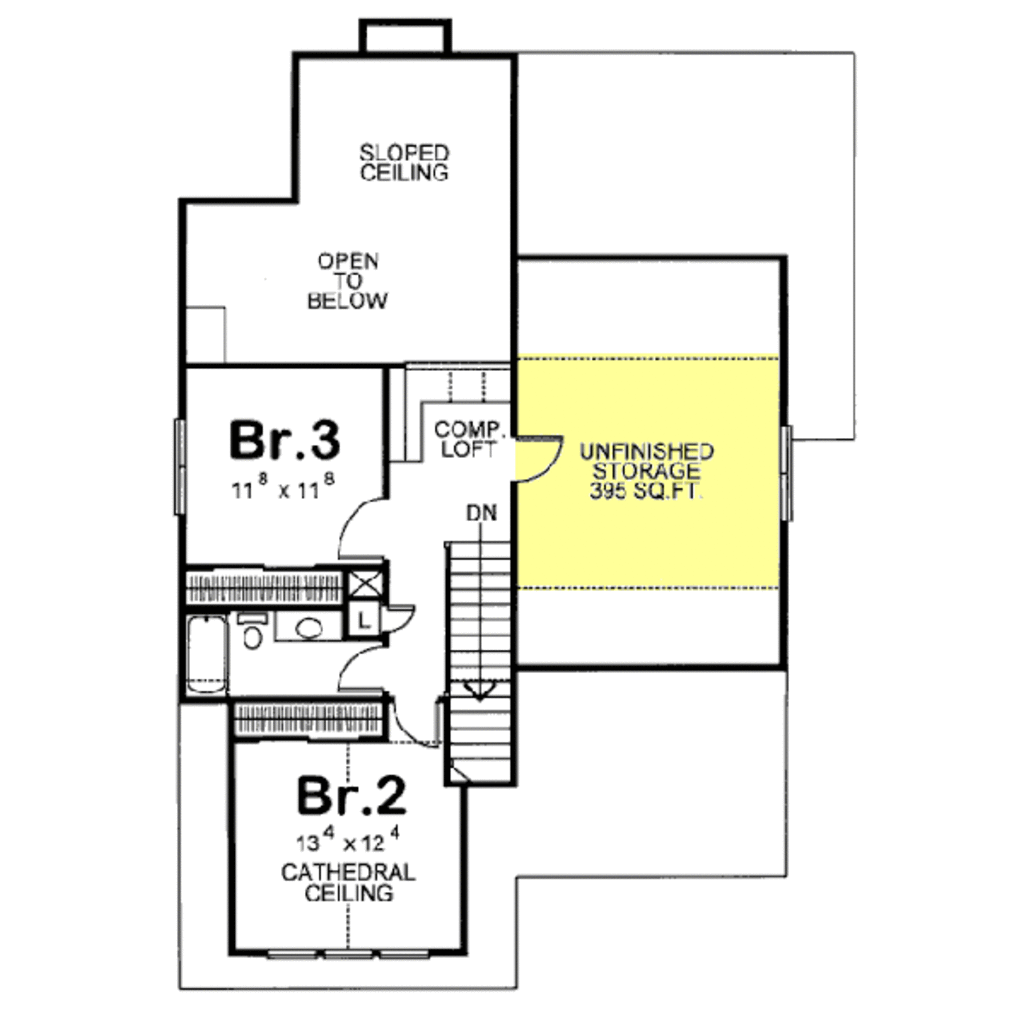door: (326, 636, 398, 695), (338, 500, 398, 562), (387, 698, 446, 760), (515, 435, 571, 484)
large_sink: (234, 601, 263, 658)
small_sink: (273, 609, 346, 651)
stairs: (444, 538, 523, 790)
tub: (187, 612, 236, 709)
window: (276, 941, 439, 966), (169, 424, 199, 535), (777, 428, 803, 530)
